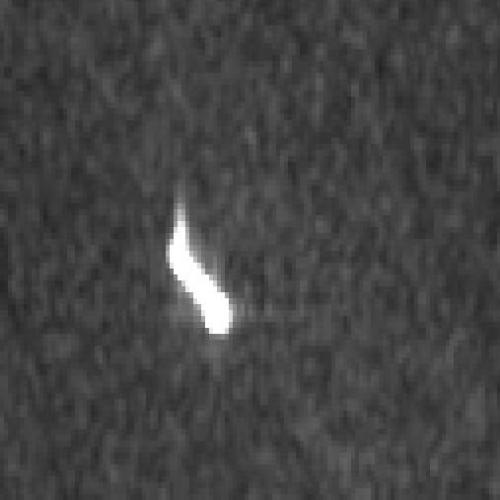ship: (166, 214, 234, 334)
